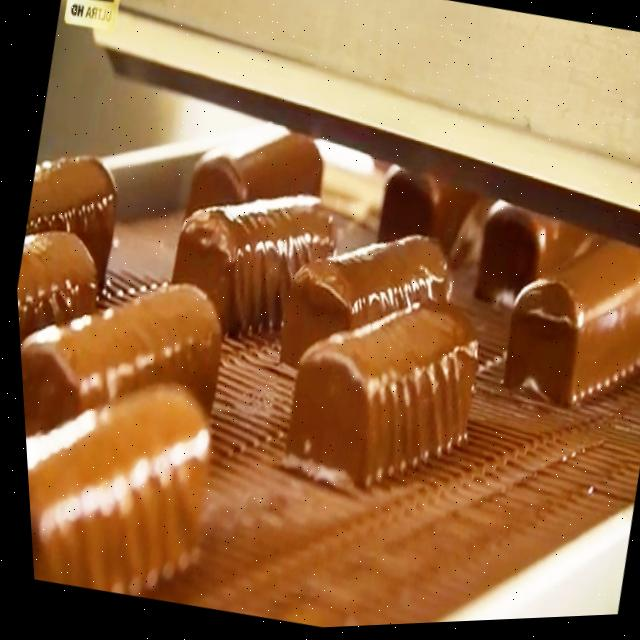Choco: (265, 271, 495, 514), (16, 346, 229, 607), (12, 244, 239, 484), (264, 206, 464, 398), (154, 164, 341, 347), (484, 218, 640, 428), (168, 109, 328, 262), (451, 194, 599, 331), (11, 139, 131, 293), (10, 214, 107, 354), (359, 173, 458, 272)
